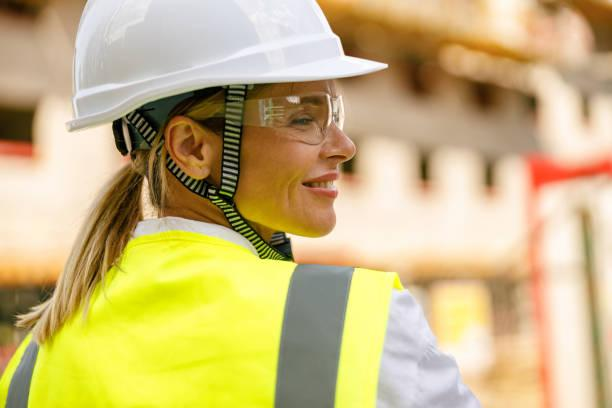goggle: (172, 85, 354, 144)
helmet: (60, 1, 391, 137)
vest: (2, 216, 418, 408)
